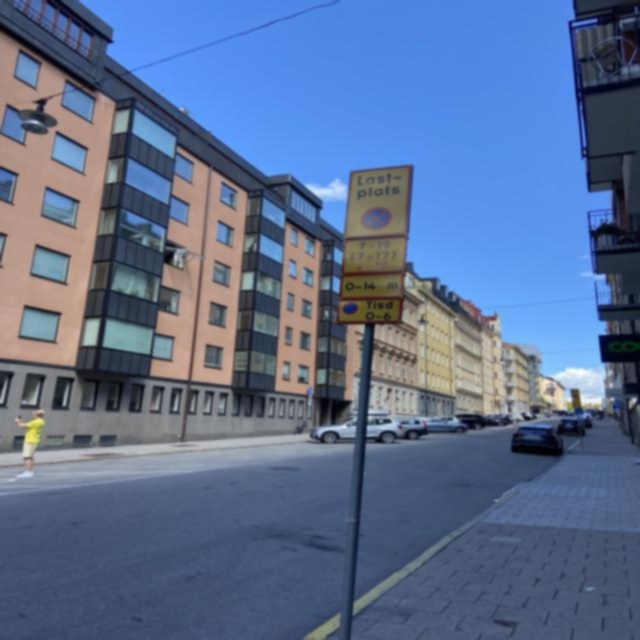lastplats: (342, 162, 411, 240)
